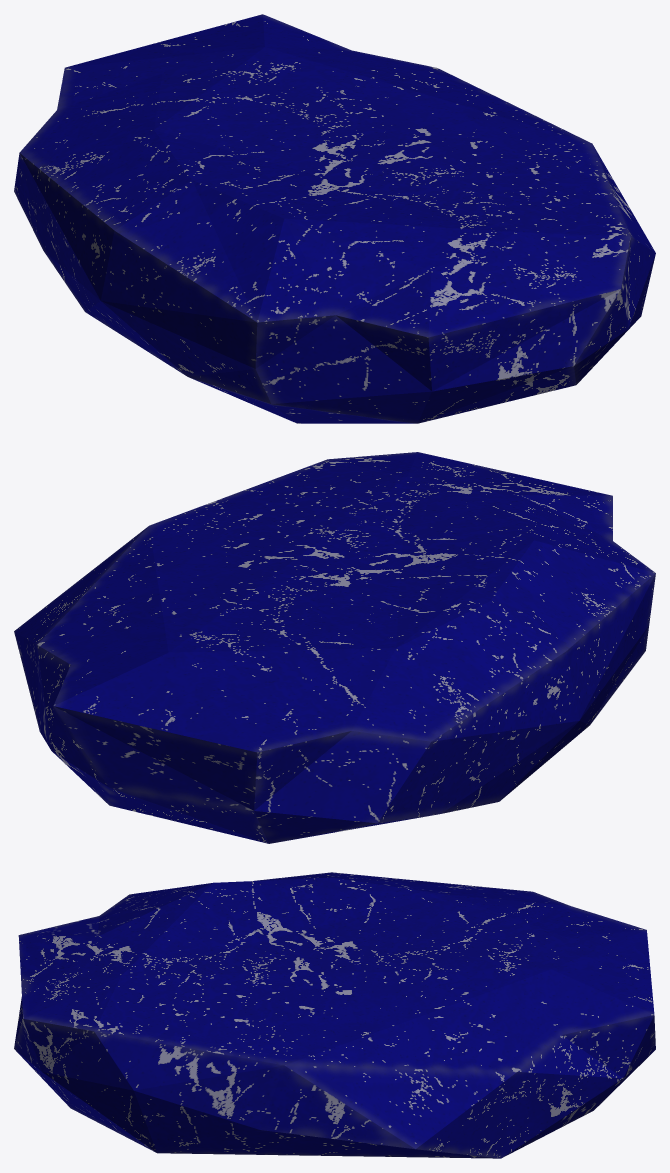
Rendered from Lapis.glb.
3 views of the same model, one above another, from view 1: azimuth 30°, elevation 25°; view 2: azimuth 150°, elevation 25°; view 3: azimuth 270°, elevation 25° (orthographic). The views are drawn at different scales.
Visible parts, largest first — view 1: Cylinder.004; view 2: Cylinder.004; view 3: Cylinder.004.
Boxes of the visible parts, x1=… form: Cylinder.004: x1=14, y1=14, x2=655, y2=423; Cylinder.004: x1=14, y1=452, x2=655, y2=843; Cylinder.004: x1=14, y1=872, x2=655, y2=1158.
Bounding box in the file's own units: 1.21 × 0.4819 × 1.48.
Materials: 1 (1 with a texture image).
